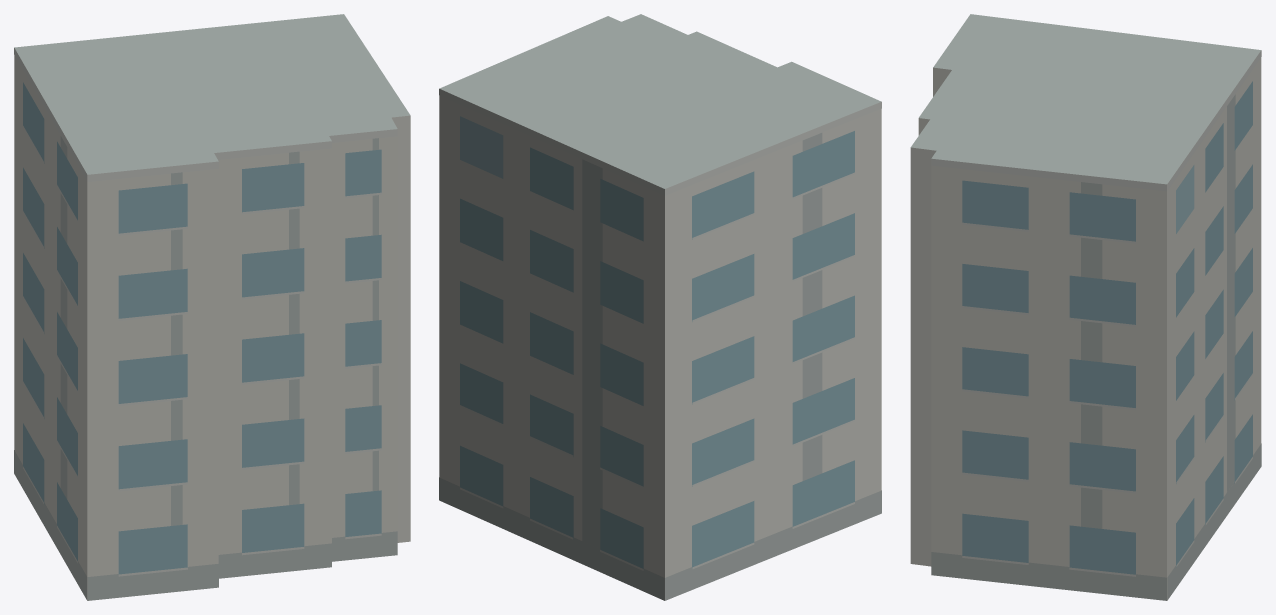
The model's file is survey-upis-32806008.glb.
The picture shows the model from 3 angles, left to right: view 1: azimuth 30°, elevation 25°; view 2: azimuth 150°, elevation 25°; view 3: azimuth 270°, elevation 25°; orthographic projection. The views are drawn at different scales.
Visible parts, largest first — view 1: survey-upis-32806008.tmp; view 2: survey-upis-32806008.tmp; view 3: survey-upis-32806008.tmp.
Boxes of the visible parts, bbox=[...] form: survey-upis-32806008.tmp: bbox=[14, 14, 410, 600]; survey-upis-32806008.tmp: bbox=[439, 14, 881, 600]; survey-upis-32806008.tmp: bbox=[910, 14, 1261, 600].
Size of the model in its own units: 12.73 by 14.5 by 11.08.
